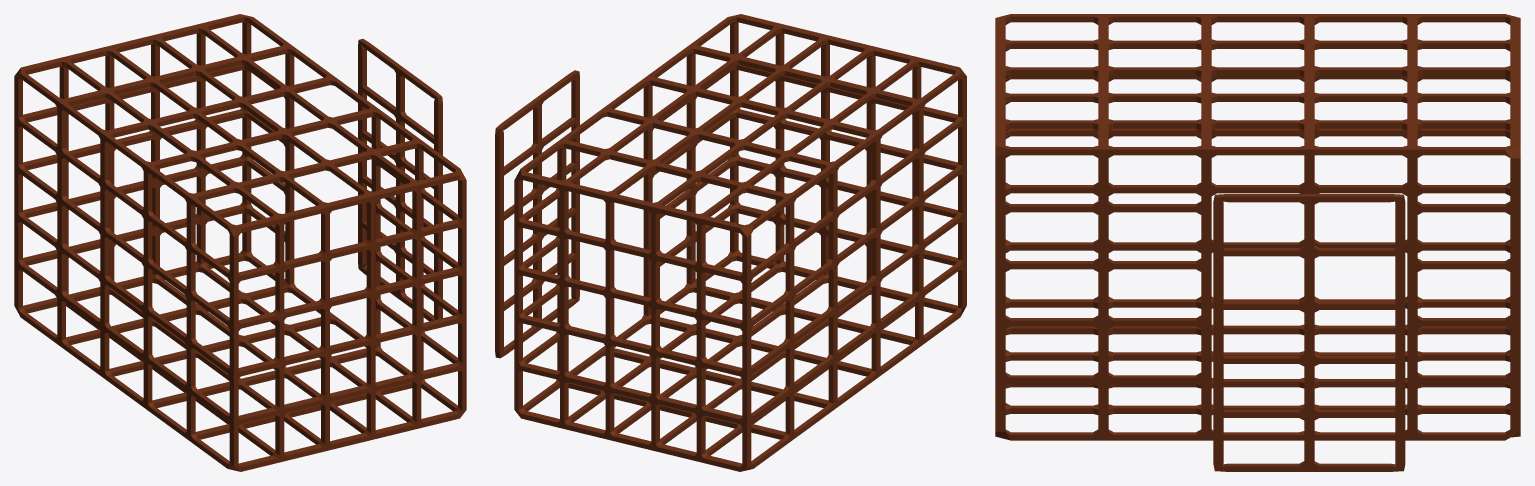
Rendered from Klatka.fbx.
The picture shows the model from 3 angles, left to right: view 1: azimuth 30°, elevation 25°; view 2: azimuth 150°, elevation 25°; view 3: azimuth 270°, elevation 25°; orthographic projection. The views are drawn at different scales.
Parts seen in each view (by area): view 1: Cube.003, Cube.004; view 2: Cube.003, Cube.004; view 3: Cube.003, Cube.004.
Part boxes in pixels (x1,y1,x2,y2): Cube.003: (14,14,466,471); Cube.004: (358,39,442,321); Cube.003: (514,14,966,471); Cube.004: (495,70,579,358); Cube.003: (995,14,1520,440); Cube.004: (1213,194,1405,471).
Size of the model in its own units: 877 by 680 by 1113.
